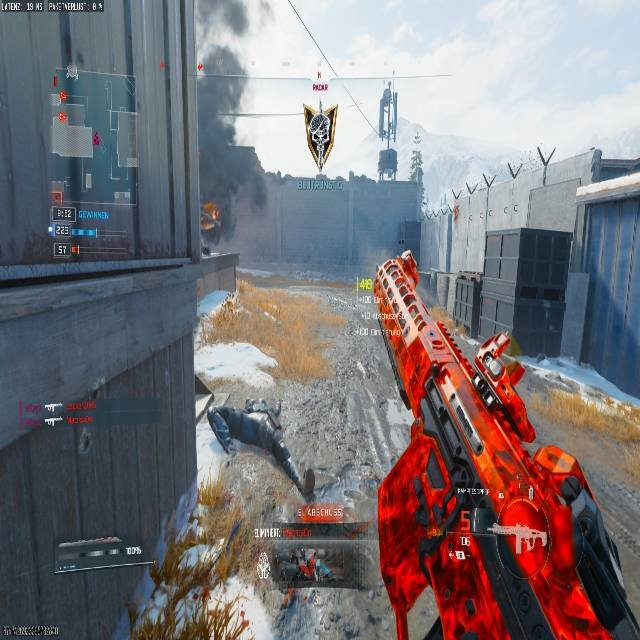player: (204, 395, 308, 494), (199, 201, 220, 254)
